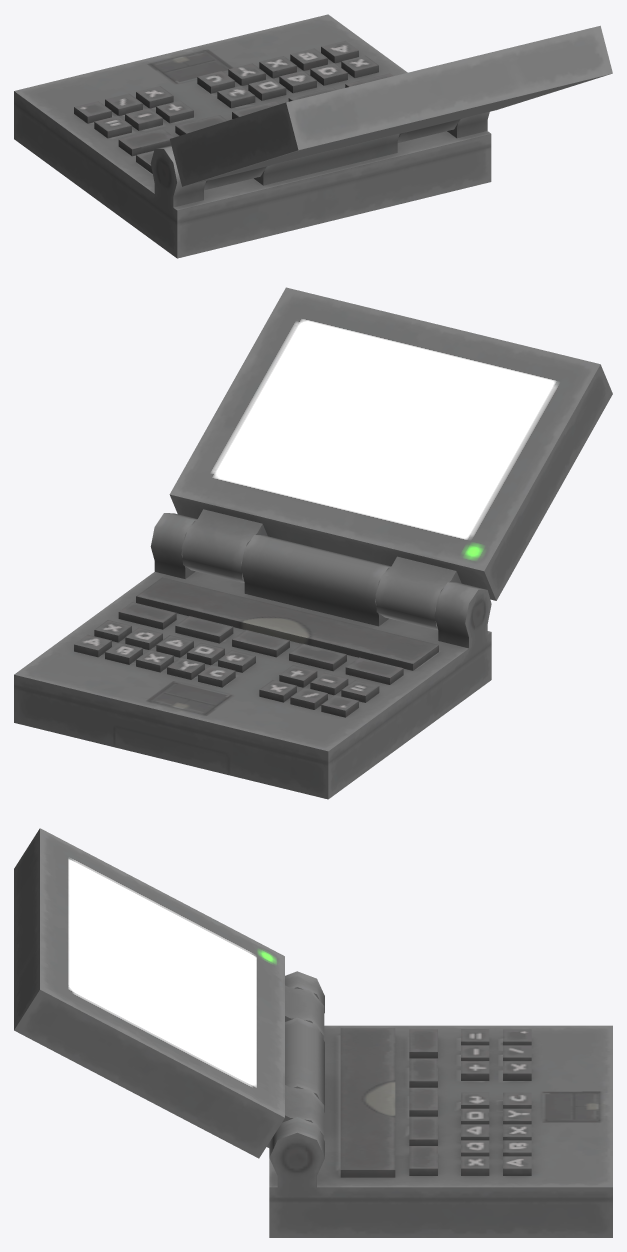
The model's file is Prfb_Computer__4.fbx.
3 renders of one model, top to bottom at view 1: azimuth 30°, elevation 25°; view 2: azimuth 150°, elevation 25°; view 3: azimuth 270°, elevation 25°, orthographic. The views are drawn at different scales.
Parts seen in each view (by area): view 1: Mat_Computer_01_01; view 2: Mat_Computer_01_01; view 3: Mat_Computer_01_01.
Part boxes in pixels (x1,y1,x2,y2): Mat_Computer_01_01: [14, 14, 612, 258]; Mat_Computer_01_01: [14, 287, 612, 799]; Mat_Computer_01_01: [14, 828, 612, 1237].
Bounding box in the file's own units: 0.4671 × 0.3349 × 0.732.
Materials: 1 (1 with a texture image).
